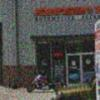motorcycles: (26, 72, 64, 93)
